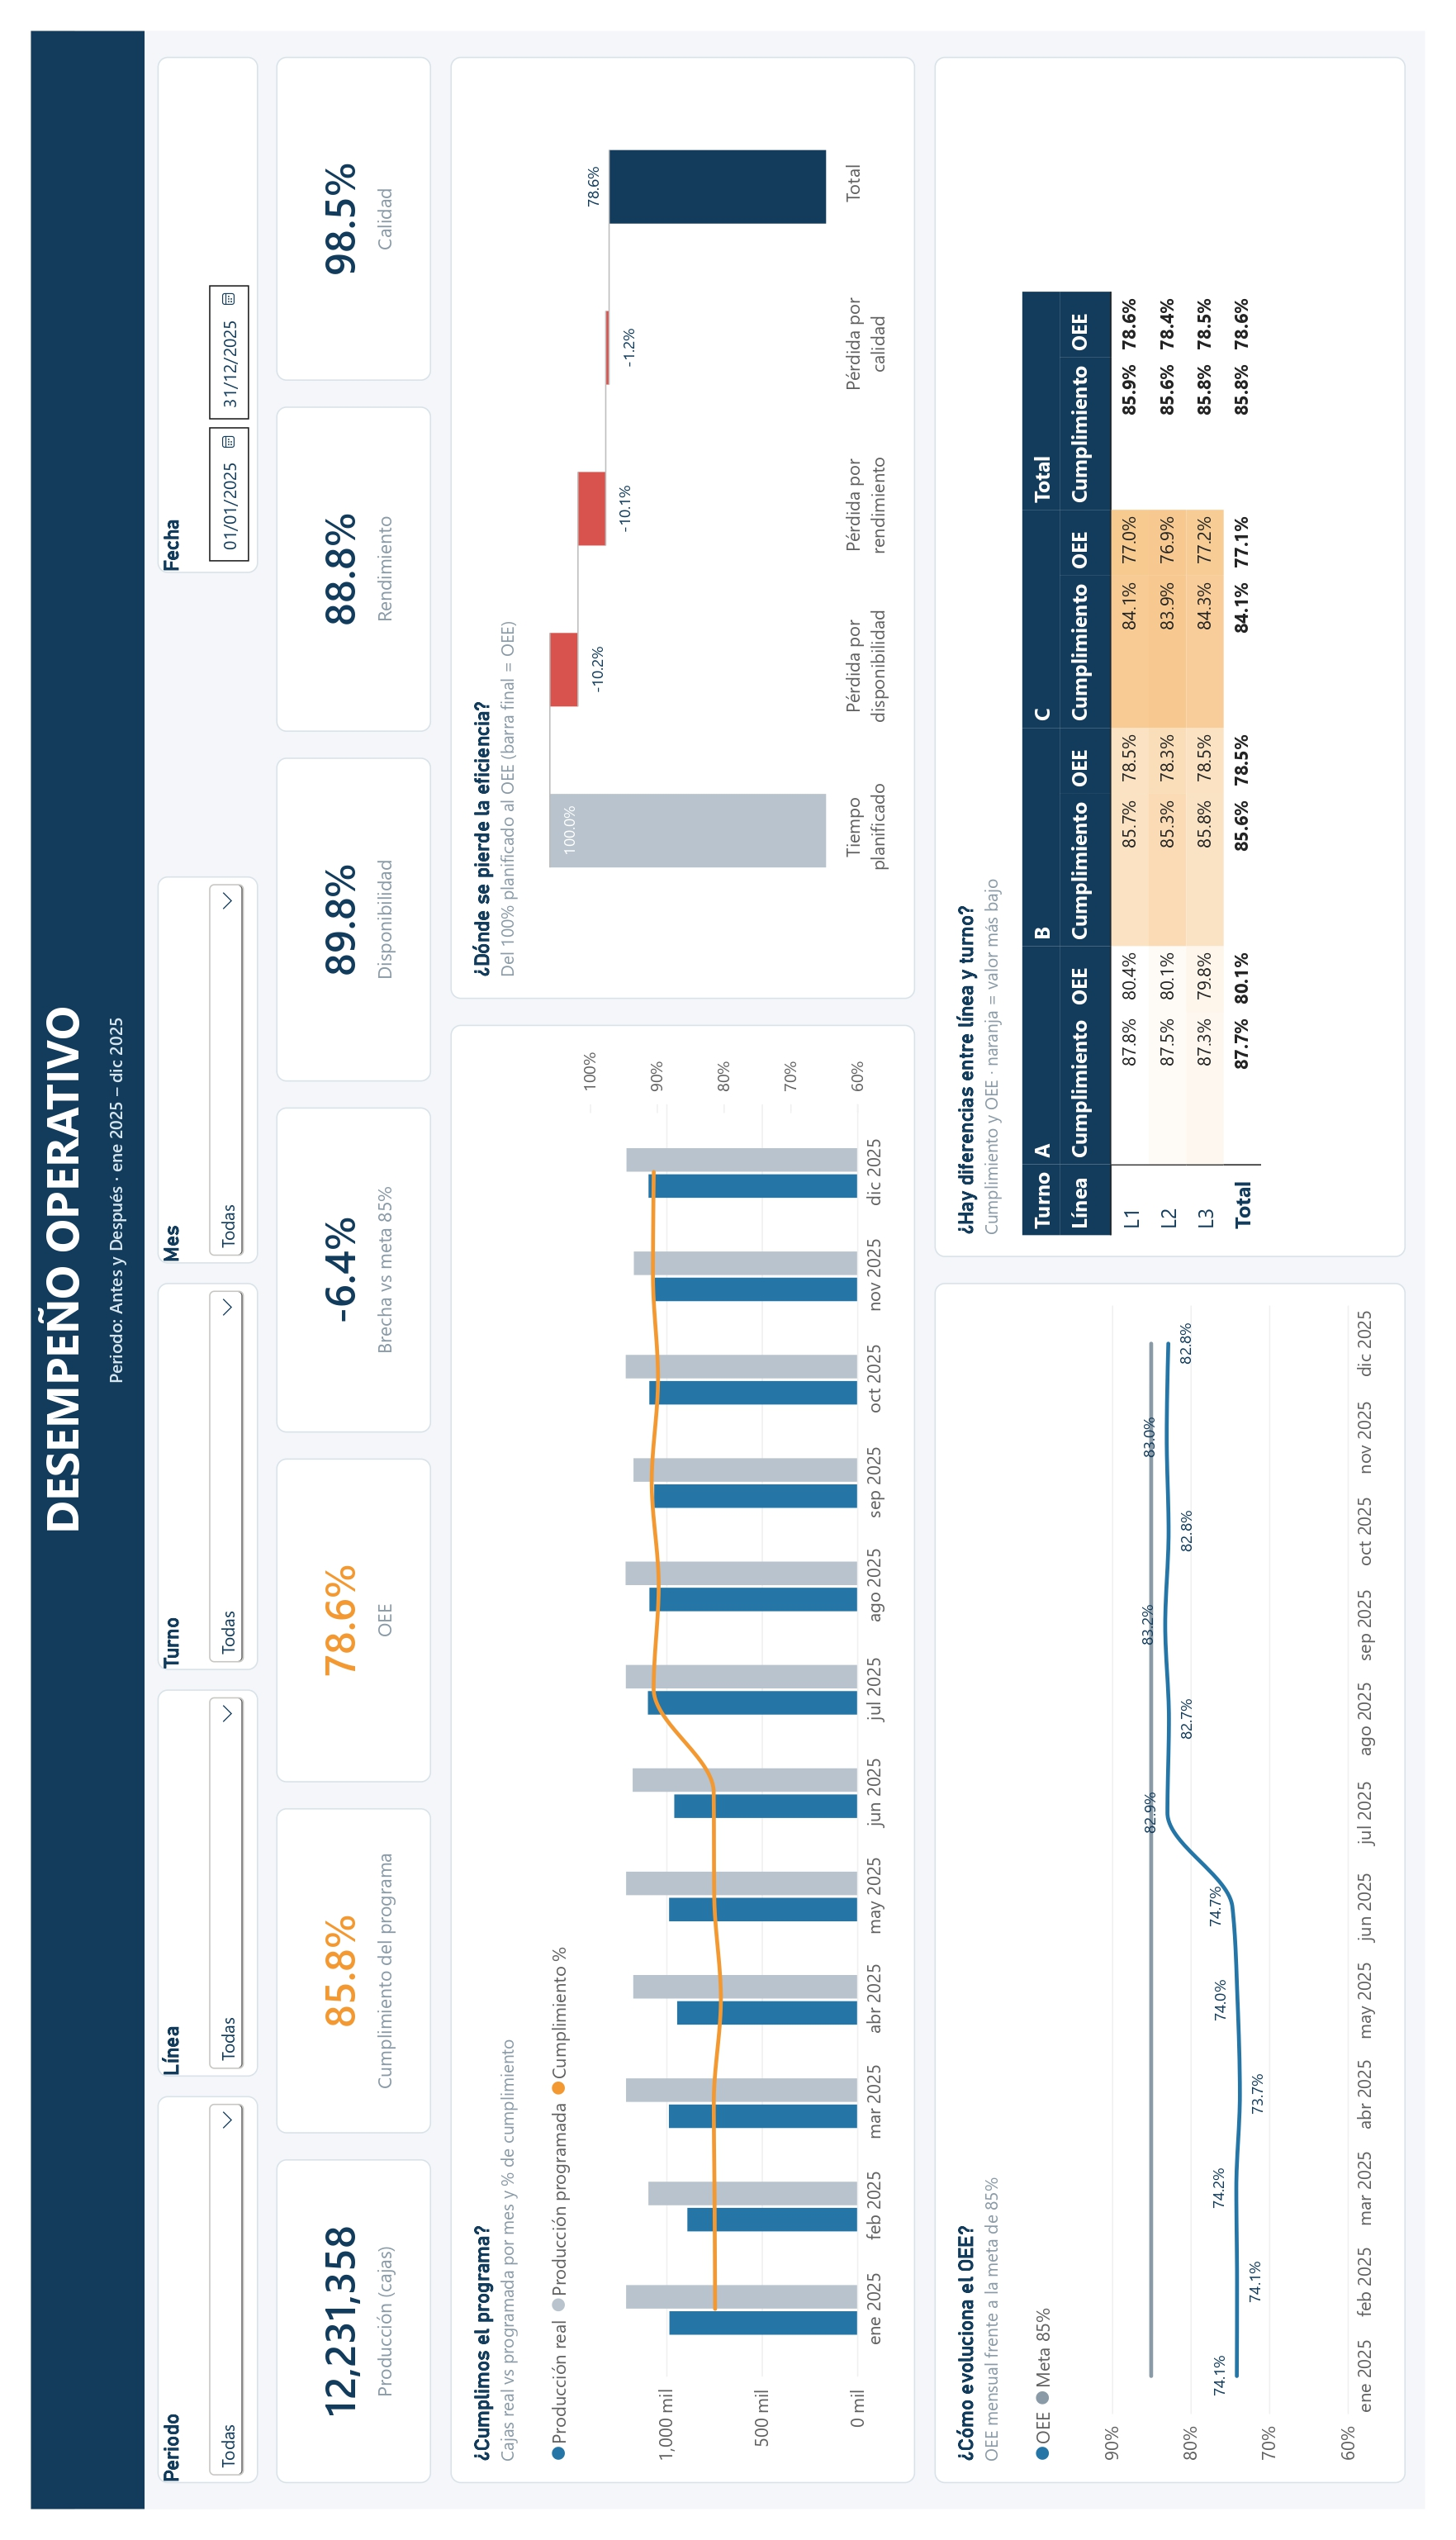

What the dashboard file says about the page in this screenshot:
{"tool":"powerbi","page":{"name":"Desempeño Operativo","canvas":[1920,1080],"ordinal":0},"visuals":[{"type":"shape","box":[0,0,1920,88],"z":2001},{"type":"textbox","box":[360,0,1200,50],"z":2002},{"type":"card","fields":{"Values":["Tabla_medida.Subtítulo Periodo"]},"box":[613.8,43.8,800,43.8],"z":2003},{"type":"slicer","title":"Periodo","fields":{"Values":["CalendarioDAX.Periodo"]},"box":[20,98,300,78],"z":2004},{"type":"slicer","title":"Línea","fields":{"Values":["Dim_Linea.linea"]},"box":[335,98,300,78],"z":2005},{"type":"slicer","title":"Turno","fields":{"Values":["Dim_Turno.Turno"]},"box":[650,98,300,78],"z":2006},{"type":"slicer","title":"Mes","fields":{"Values":["CalendarioDAX.Mes texto"]},"box":[965,98,300,78],"z":2007},{"type":"slicer","title":"Fecha","fields":{"Values":["CalendarioDAX.Date"]},"box":[1500,98,400,78],"z":2008},{"type":"card","fields":{"Values":["Tabla_medida.Total Producción"]},"box":[20,190,251.4,120],"z":2009},{"type":"card","fields":{"Values":["Tabla_medida.Cumplimiento"]},"box":[291.4,190,251.4,120],"z":2010},{"type":"card","fields":{"Values":["Tabla_medida.OEE"]},"box":[562.9,190,251.4,120],"z":2011},{"type":"card","fields":{"Values":["Tabla_medida.Brecha OEE"]},"box":[834.3,190,251.4,120],"z":2012},{"type":"card","fields":{"Values":["Tabla_medida.Disponibilidad"]},"box":[1105.7,190,251.4,120],"z":2013},{"type":"card","fields":{"Values":["Tabla_medida.Rendimiento"]},"box":[1377.1,190,251.4,120],"z":2014},{"type":"card","fields":{"Values":["Tabla_medida.Calidad"]},"box":[1648.6,190,251.4,120],"z":2015},{"type":"lineClusteredColumnComboChart","title":"¿Cumplimos el programa?","fields":{"Category":["CalendarioDAX.Mes Año"],"Y":["Tabla_medida.Total Producción","Tabla_medida.Producción Programada"],"Y2":["Tabla_medida.Cumplimiento"]},"box":[20,325,1130,360],"z":2016},{"type":"waterfallChart","title":"¿Dónde se pierde la eficiencia?","fields":{"Category":["Cascada_OEE.Paso"],"Y":["Tabla_medida.Valor Cascada OEE"]},"box":[1170,325,730,360],"z":2017},{"type":"lineChart","title":"¿Cómo evoluciona el OEE?","fields":{"Category":["CalendarioDAX.Mes Año"],"Y":["Tabla_medida.OEE","Tabla_medida.Meta OEE"]},"box":[20,700,930,365],"z":2018},{"type":"pivotTable","title":"¿Hay diferencias entre línea y turno?","fields":{"Columns":["Dim_Turno.Turno"],"Rows":["Dim_Linea.linea"],"Values":["Tabla_medida.Cumplimiento","Tabla_medida.OEE"]},"box":[970,700,930,365],"z":2019}]}

Visuals, with their boxes on the page's 1920x1080 design canvas (x1, y1, x2, y2). These are canvas units, not pixel positions in the 1456x2540 screenshot, which may show the page scaled, cropped or inside an application window:
shape: (x1=0, y1=0, x2=1920, y2=88)
textbox: (x1=360, y1=0, x2=1560, y2=50)
card - Tabla_medida.Subtítulo Periodo: (x1=614, y1=44, x2=1414, y2=88)
"Periodo" slicer: (x1=20, y1=98, x2=320, y2=176)
"Línea" slicer: (x1=335, y1=98, x2=635, y2=176)
"Turno" slicer: (x1=650, y1=98, x2=950, y2=176)
"Mes" slicer: (x1=965, y1=98, x2=1265, y2=176)
"Fecha" slicer: (x1=1500, y1=98, x2=1900, y2=176)
card - Tabla_medida.Total Producción: (x1=20, y1=190, x2=271, y2=310)
card - Tabla_medida.Cumplimiento: (x1=291, y1=190, x2=543, y2=310)
card - Tabla_medida.OEE: (x1=563, y1=190, x2=814, y2=310)
card - Tabla_medida.Brecha OEE: (x1=834, y1=190, x2=1086, y2=310)
card - Tabla_medida.Disponibilidad: (x1=1106, y1=190, x2=1357, y2=310)
card - Tabla_medida.Rendimiento: (x1=1377, y1=190, x2=1628, y2=310)
card - Tabla_medida.Calidad: (x1=1649, y1=190, x2=1900, y2=310)
"¿Cumplimos el programa?" lineClusteredColumnComboChart: (x1=20, y1=325, x2=1150, y2=685)
"¿Dónde se pierde la eficiencia?" waterfallChart: (x1=1170, y1=325, x2=1900, y2=685)
"¿Cómo evoluciona el OEE?" lineChart: (x1=20, y1=700, x2=950, y2=1065)
"¿Hay diferencias entre línea y turno?" pivotTable: (x1=970, y1=700, x2=1900, y2=1065)
